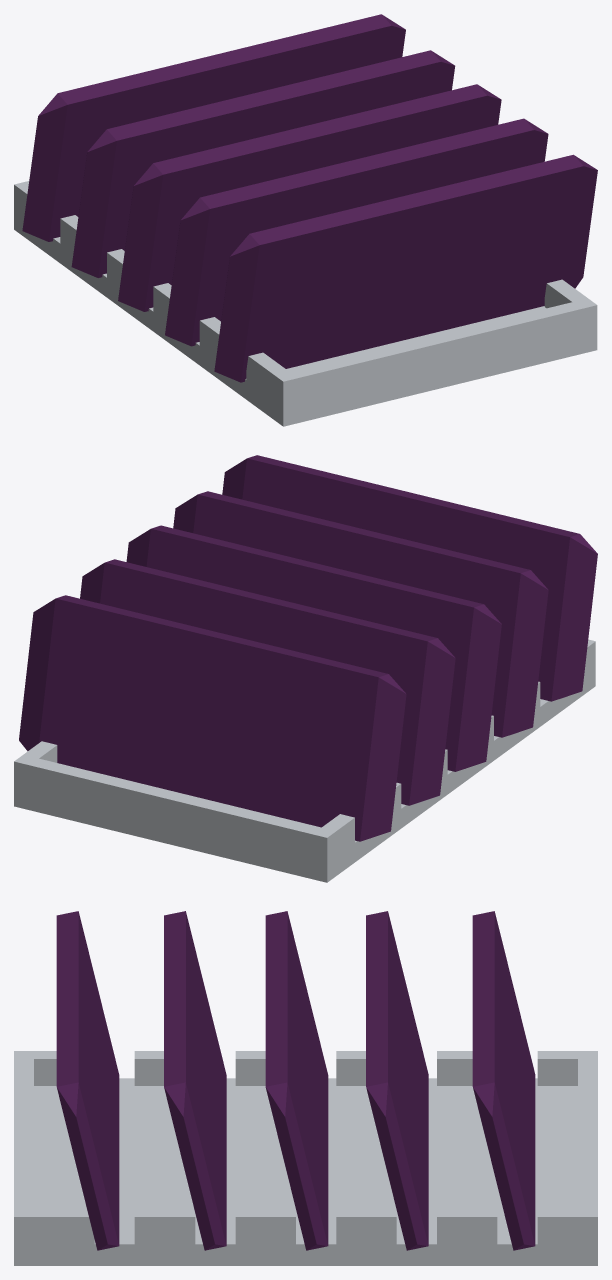
The model's file is Schokolade.fbx.
The picture shows the model from 3 angles, top to bottom: view 1: azimuth 30°, elevation 25°; view 2: azimuth 150°, elevation 25°; view 3: azimuth 270°, elevation 25°; orthographic projection. The views are drawn at different scales.
Parts seen in each view (by area): view 1: Cube.005, Cube.001, Cube, Cube.004, Cube.003, Cube.002; view 2: Cube, Cube.001, Cube.005, Cube.002, Cube.004, Cube.003; view 3: Cube.001, Cube.003, Cube, Cube.005, Cube.002, Cube.004.
Boxes of the visible parts, x1,y1,x2,y2 form: Cube.005: [214, 154, 597, 382]; Cube.001: [14, 181, 597, 426]; Cube: [22, 14, 405, 241]; Cube.004: [165, 118, 548, 346]; Cube.003: [118, 84, 501, 311]; Cube.002: [71, 50, 455, 277]; Cube: [19, 595, 406, 841]; Cube.001: [14, 639, 595, 882]; Cube.005: [222, 455, 597, 701]; Cube.002: [80, 559, 455, 805]; Cube.004: [173, 491, 548, 737]; Cube.003: [126, 525, 501, 771]; Cube.001: [14, 1051, 597, 1265]; Cube.003: [265, 911, 328, 1250]; Cube: [472, 911, 535, 1250]; Cube.005: [56, 911, 119, 1250]; Cube.002: [366, 911, 428, 1250]; Cube.004: [164, 911, 226, 1250].
Bounding box in the file's own units: 82.69 × 36.68 × 104.
